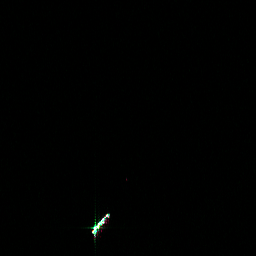ship: (88, 209, 112, 237)
